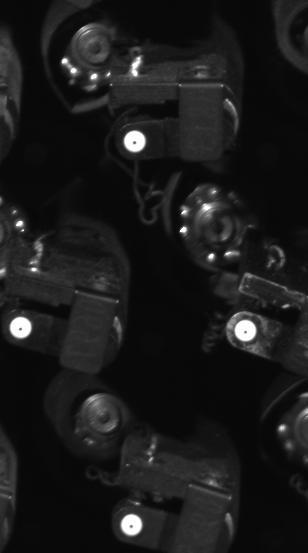fiber: (120, 127, 154, 158), (116, 509, 148, 541), (6, 314, 39, 341), (231, 318, 263, 344)
